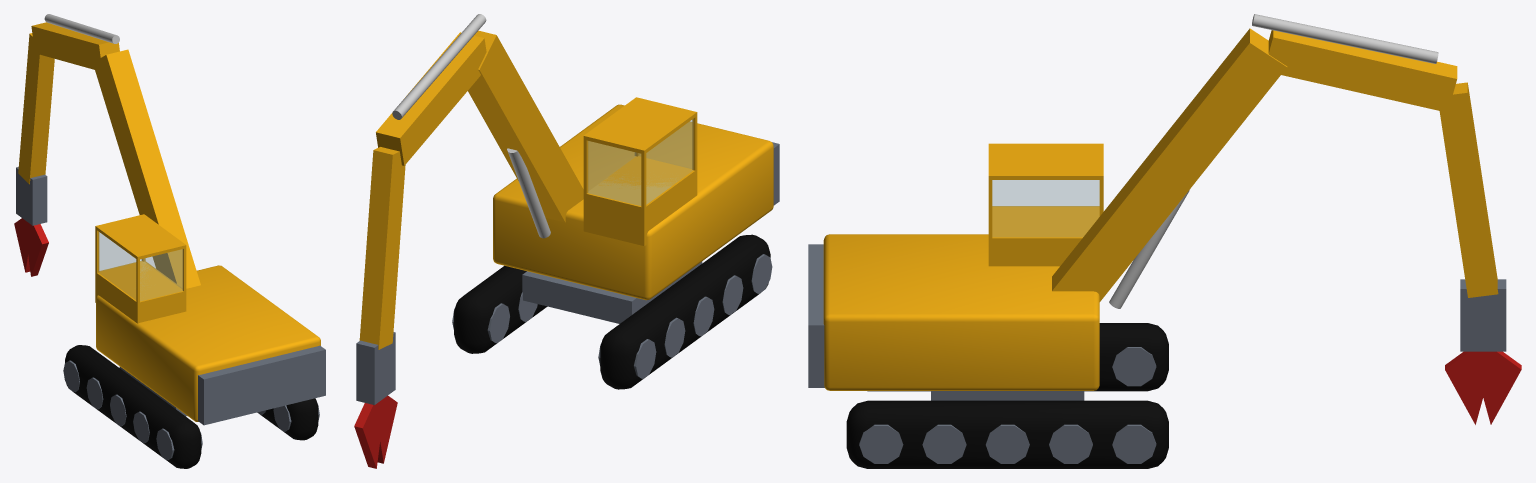
The model's file is plant.excavator.shears.glb.
3 views of the same model, side by side, from view 1: azimuth 30°, elevation 25°; view 2: azimuth 150°, elevation 25°; view 3: azimuth 270°, elevation 25° (orthographic). The views are drawn at different scales.
Visible parts, largest first — view 1: house__plant_yellow, boom__plant_yellow, undercarriage__rubber, house__steel_painted, house__glass, undercarriage__steel_painted, tool__steel_painted, tool__hazard_red, boom__steel_stainless; view 2: house__plant_yellow, boom__plant_yellow, undercarriage__rubber, undercarriage__steel_painted, house__glass, boom__steel_stainless, tool__steel_painted, tool__hazard_red; view 3: house__plant_yellow, boom__plant_yellow, undercarriage__rubber, undercarriage__steel_painted, house__glass, boom__steel_stainless, tool__hazard_red, tool__steel_painted, house__steel_painted.
Boxes of the visible parts, box(x1,y1,x2,y2) form: house__plant_yellow: box(95, 214, 320, 421); boom__plant_yellow: box(18, 22, 200, 288); undercarriage__rubber: box(65, 345, 318, 468); house__steel_painted: box(198, 345, 325, 425); house__glass: box(98, 232, 182, 300); undercarriage__steel_painted: box(63, 360, 319, 460); tool__steel_painted: box(16, 167, 47, 225); tool__hazard_red: box(14, 218, 48, 276); boom__steel_stainless: box(44, 14, 119, 43); house__plant_yellow: box(493, 97, 773, 300); boom__plant_yellow: box(359, 30, 583, 349); undercarriage__rubber: box(454, 234, 770, 389); undercarriage__steel_painted: box(452, 254, 772, 378); house__glass: box(588, 119, 693, 205); boom__steel_stainless: box(392, 14, 550, 238); tool__steel_painted: box(356, 332, 395, 404); tool__hazard_red: box(354, 395, 397, 468); house__plant_yellow: box(823, 143, 1103, 390); boom__plant_yellow: box(1052, 28, 1498, 301); undercarriage__rubber: box(846, 323, 1168, 468); undercarriage__steel_painted: box(859, 347, 1156, 463); house__glass: box(992, 180, 1099, 236); boom__steel_stainless: box(1109, 14, 1438, 308); tool__hazard_red: box(1445, 351, 1521, 424); tool__steel_painted: box(1460, 279, 1506, 351); house__steel_painted: box(808, 244, 824, 387).
Size of the model in its own units: 3.02 by 6.08 by 9.3.
